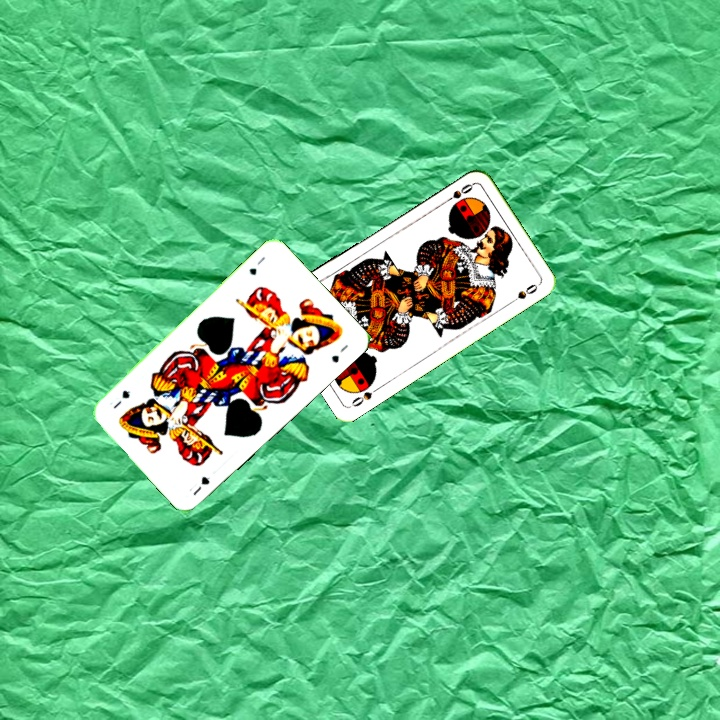GU: (185, 472, 212, 498), (245, 252, 268, 278)
SO: (440, 179, 476, 206), (347, 383, 383, 410)
